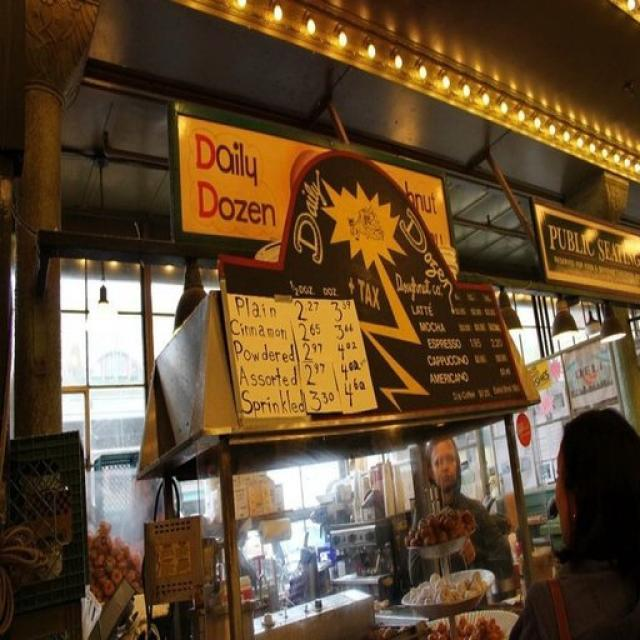Donuts: (407, 510, 512, 640)
